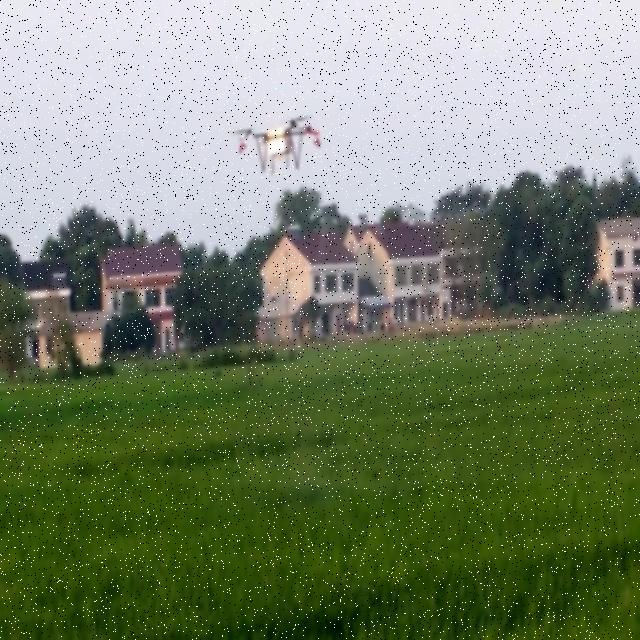UAV: (231, 116, 321, 177)
